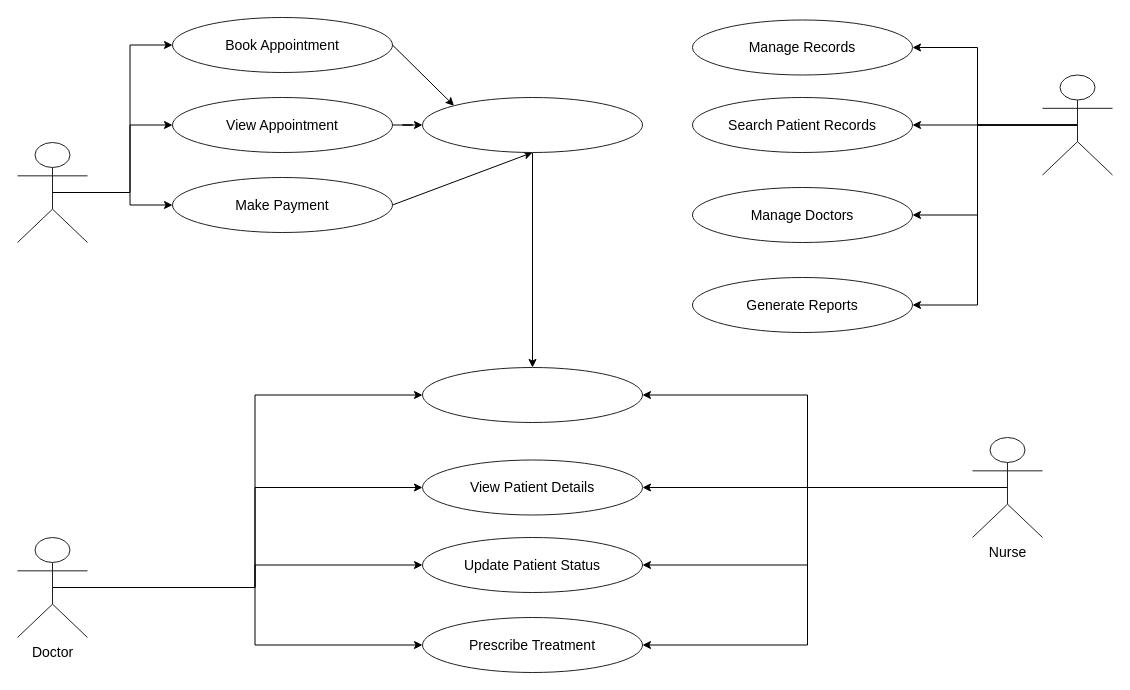
Image size: 1130x690. Some labels were removed from this diagram. The centre of each missing label's shape, as x and y in pixels:
"Admin" belongs at point (1077, 124).
"Patient" belongs at point (52, 192).
"Patient Registration" belongs at point (532, 124).
"View Medical Record" belongs at point (532, 394).
